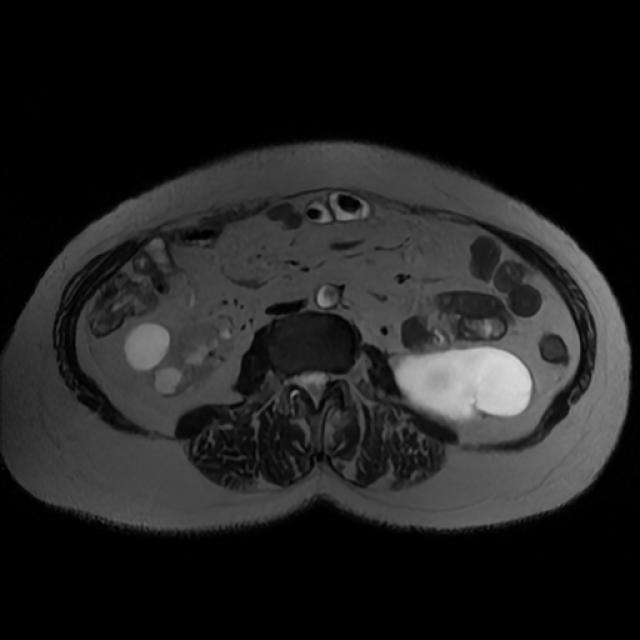sag: (126, 315, 232, 396)
sol: (396, 346, 536, 418)
